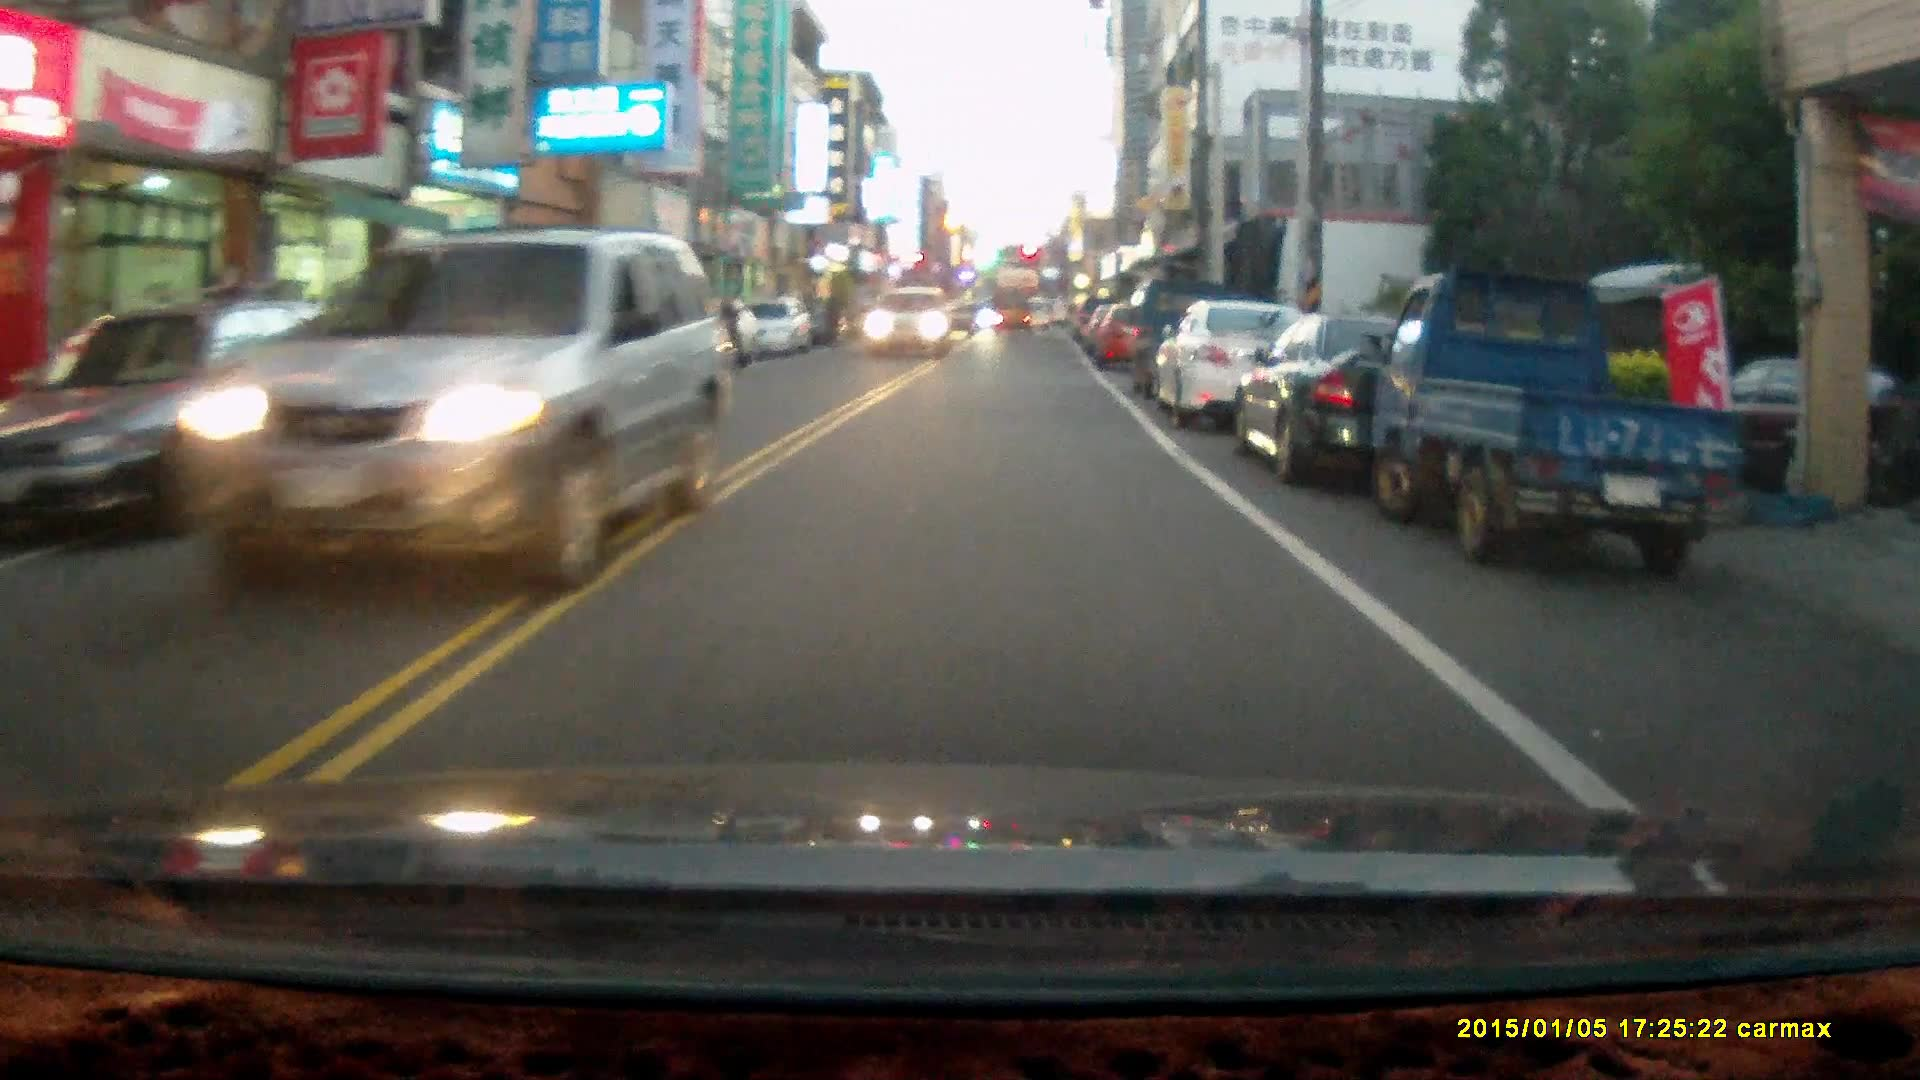rider: (699, 293, 743, 376)
vehicle: (171, 224, 728, 594), (1368, 272, 1746, 580), (1, 297, 408, 540), (1231, 309, 1540, 490), (1146, 299, 1329, 431), (865, 286, 955, 365), (1091, 302, 1170, 374), (739, 296, 817, 361), (992, 290, 1036, 339)
